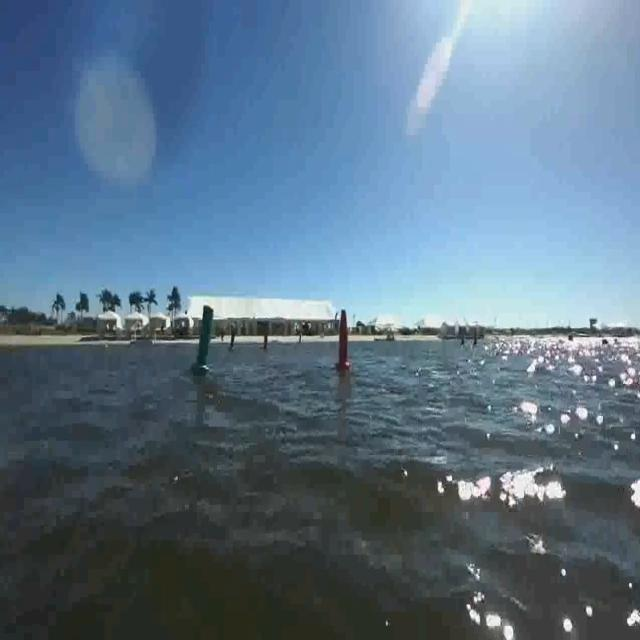green-column-buoy: (190, 304, 216, 376), (228, 328, 236, 353)
red-column-buoy: (336, 310, 354, 372), (263, 329, 272, 353)
